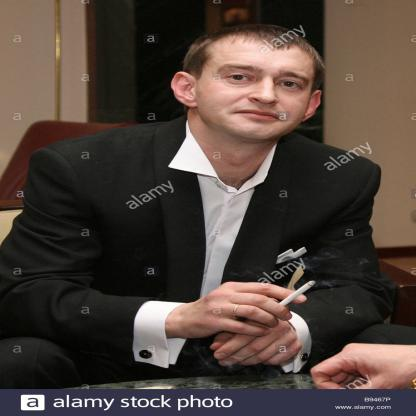cigarette: (280, 278, 320, 308)
person: (0, 6, 402, 388)
